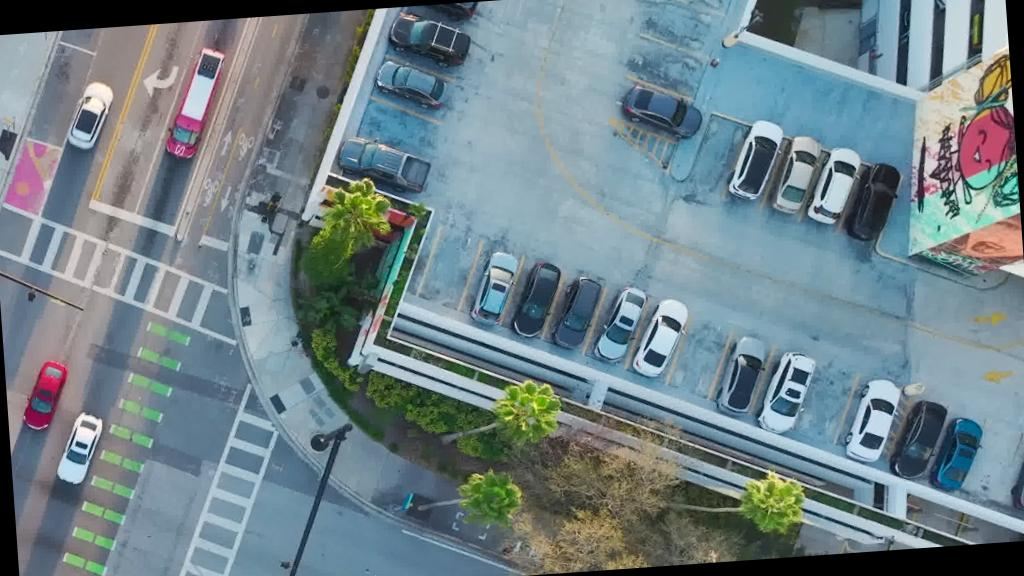cars: (158, 46, 233, 160), (336, 132, 434, 199), (752, 350, 820, 436), (840, 378, 904, 464), (722, 119, 788, 202), (386, 9, 472, 72), (886, 400, 952, 482), (628, 297, 694, 378), (620, 81, 704, 143), (588, 286, 652, 365), (842, 162, 904, 243), (802, 146, 864, 226), (712, 334, 771, 418), (766, 135, 826, 217), (506, 260, 566, 341), (925, 417, 987, 494), (466, 250, 524, 328), (548, 274, 606, 350), (374, 57, 450, 114), (51, 410, 107, 486), (63, 80, 119, 152), (18, 360, 72, 432), (1006, 435, 1024, 513), (422, 1, 480, 24)
